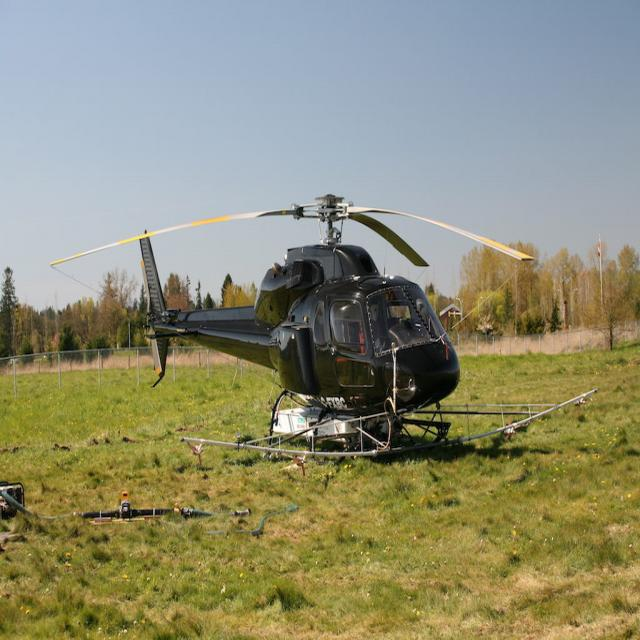helicopter: (50, 194, 535, 446)
